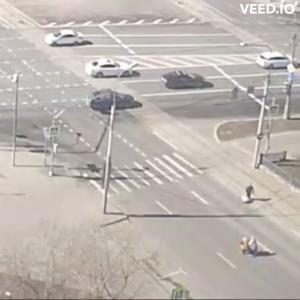car: (88, 90, 138, 115), (89, 61, 137, 85), (161, 74, 212, 93), (46, 32, 92, 48), (258, 53, 291, 70)
